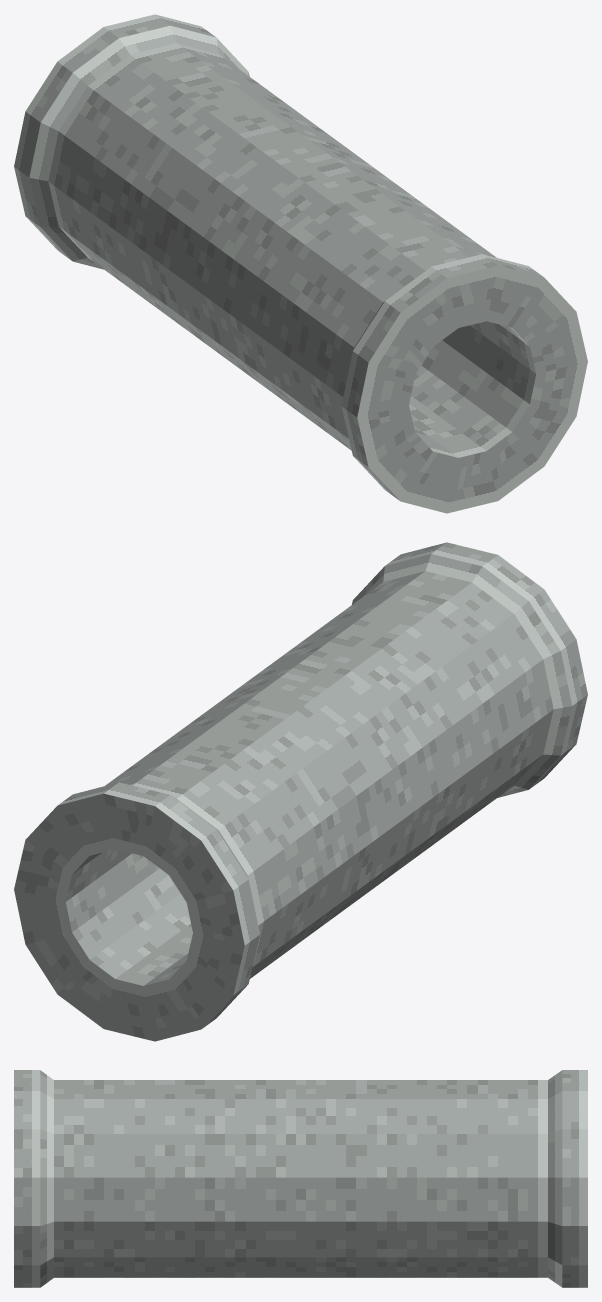
Rendered from hd_pipe.glb.
3 views of the same model, one above another, from view 1: azimuth 30°, elevation 25°; view 2: azimuth 150°, elevation 25°; view 3: azimuth 270°, elevation 25° (orthographic). The views are drawn at different scales.
Parts seen in each view (by area): view 1: block_thick-bore pipe; view 2: block_thick-bore pipe; view 3: block_thick-bore pipe.
Part boxes in pixels (bbox=[...]): block_thick-bore pipe: bbox=[14, 14, 587, 513]; block_thick-bore pipe: bbox=[14, 542, 587, 1041]; block_thick-bore pipe: bbox=[14, 1070, 587, 1287].
Size of the model in its own units: 0.0585 by 0.0571 by 0.1508.
1 material, 1 textured.
